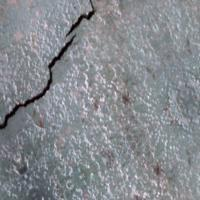crack: (2, 2, 98, 130)
